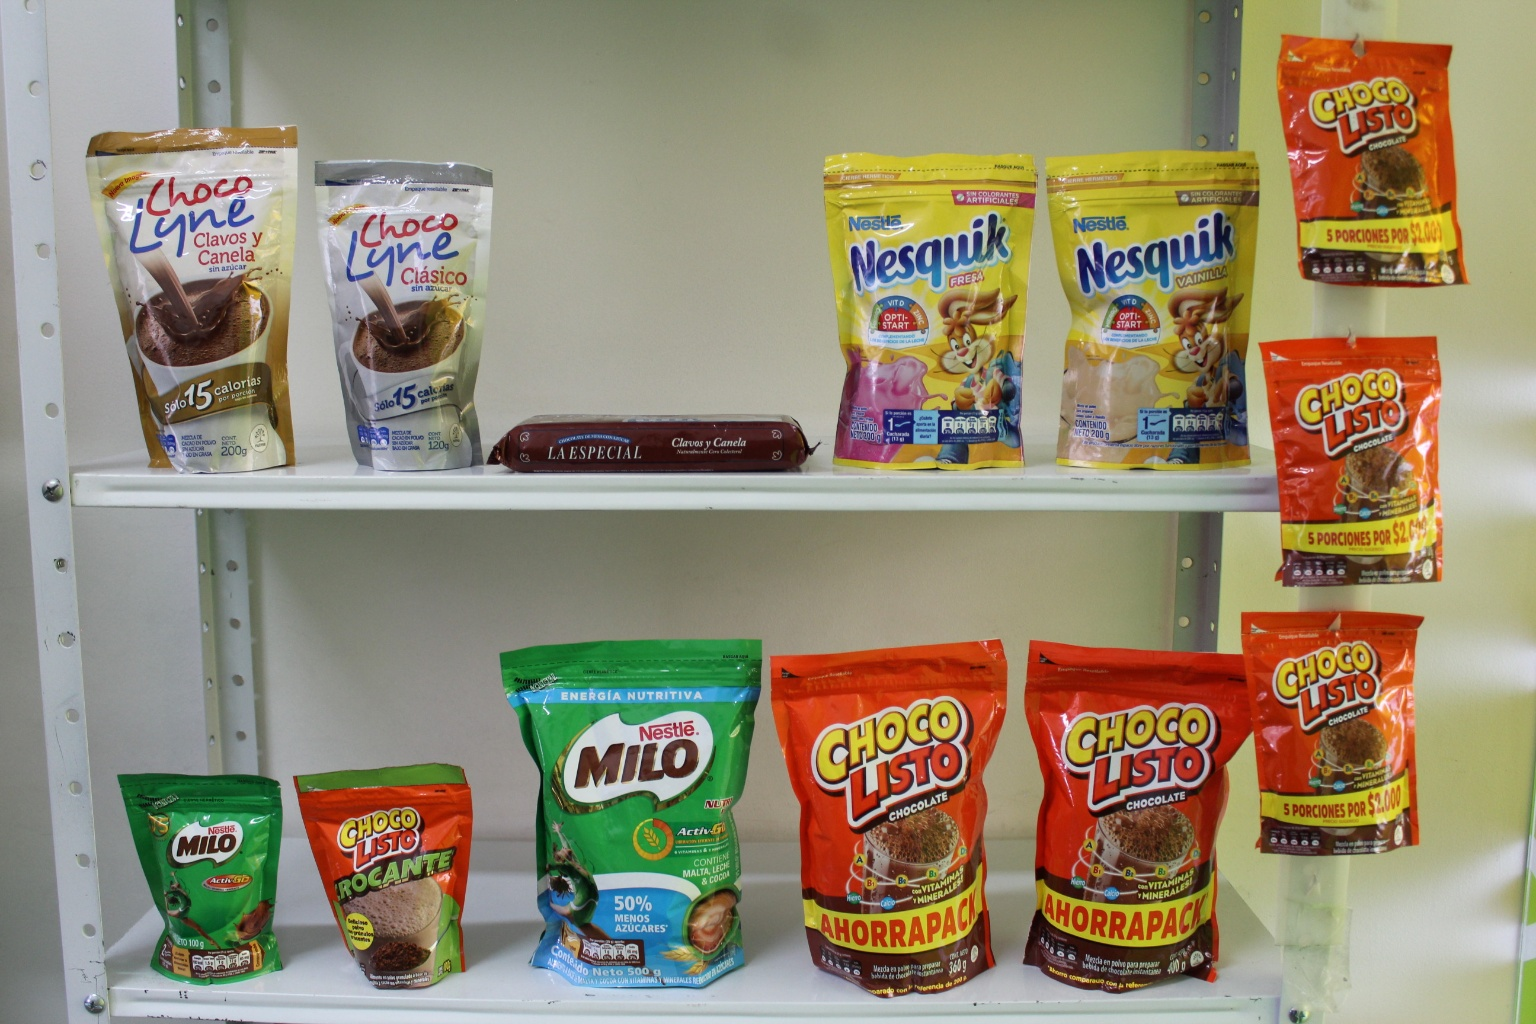COL0170102DYP10000: (288, 767, 472, 979)
COL0170103DYP10000: (1263, 22, 1477, 296)
COL0170103DYP36000: (765, 629, 1003, 983)
COL0170103DYP40000: (1026, 626, 1269, 992)
COL0170203DYP10000: (117, 754, 288, 985)
COL0170205DYP50000: (483, 603, 763, 997)
COL0170305DYP20000: (817, 146, 1021, 471)
COL0170306DYP20000: (1046, 149, 1274, 467)
